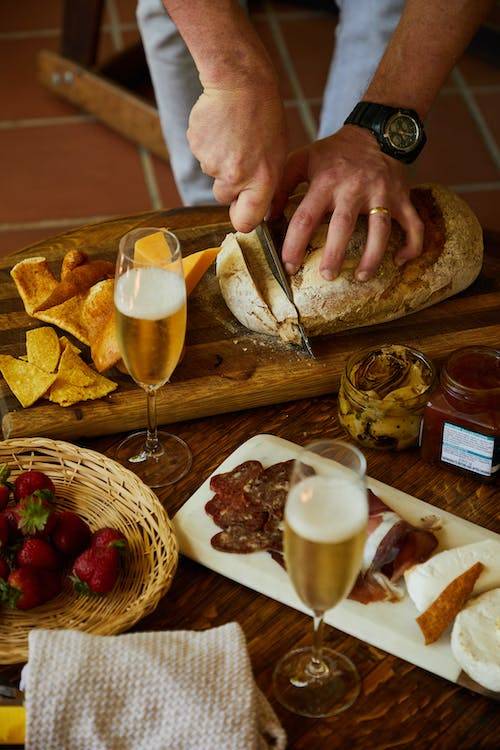knife: (261, 214, 313, 357)
